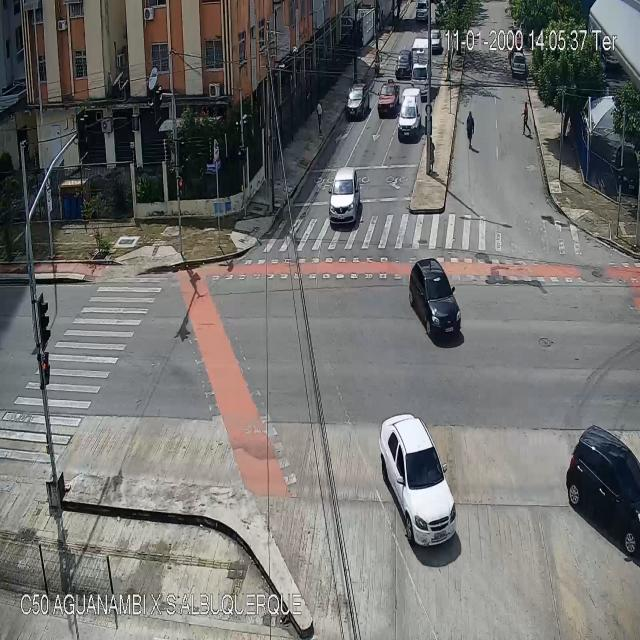Car: (380, 412, 458, 550), (566, 426, 640, 563), (409, 260, 463, 337), (328, 168, 361, 225), (398, 91, 421, 138), (345, 82, 369, 119), (378, 86, 396, 118), (428, 24, 442, 56), (395, 50, 411, 76), (511, 52, 526, 78), (416, 1, 428, 20)
Motorcycle: (373, 47, 382, 82)
Truck: (409, 28, 436, 99)
